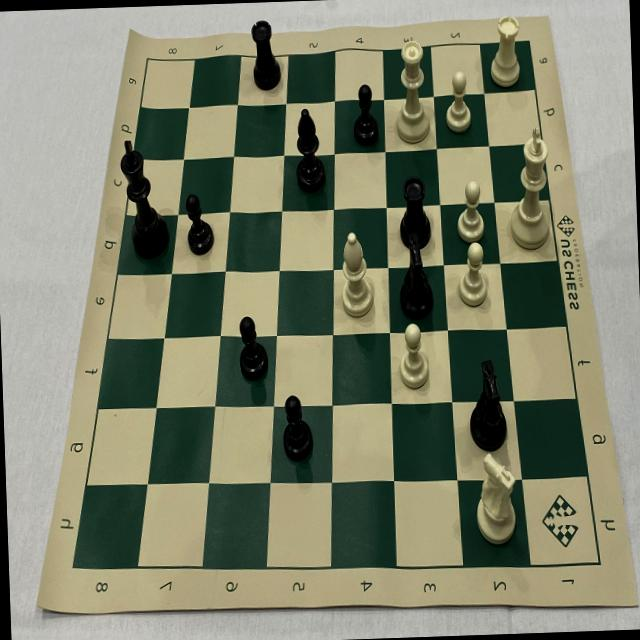black-bishop: (288, 101, 330, 202)
black-king: (114, 127, 175, 266)
black-knight: (463, 352, 509, 457), (393, 228, 440, 324)
black-pawn: (232, 307, 272, 387), (276, 389, 316, 466), (181, 188, 216, 257), (350, 78, 384, 149)
black-rook: (391, 172, 434, 260), (246, 17, 284, 99)
white-bishop: (334, 222, 380, 324)
white-king: (502, 114, 558, 258)
white-knight: (464, 447, 525, 551)
white-pawn: (392, 312, 437, 392), (452, 237, 493, 310), (454, 175, 493, 246), (439, 69, 475, 141)
white-queen: (388, 32, 432, 151)
white-rook: (485, 8, 527, 93)
